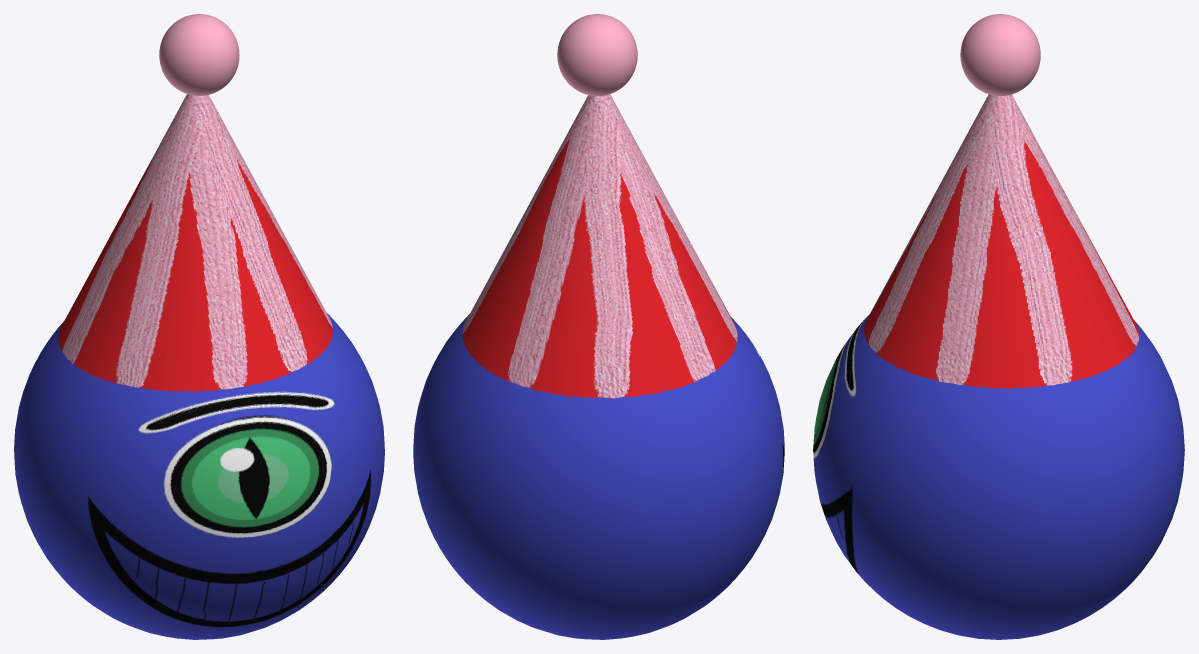
The model's file is cyclops.glb.
3 views of the same model, side by side, from view 1: azimuth 30°, elevation 25°; view 2: azimuth 150°, elevation 25°; view 3: azimuth 270°, elevation 25° (orthographic).
Visible parts, largest first — view 1: mesh_id27, mesh_id29, mesh_id32; view 2: mesh_id27, mesh_id29, mesh_id32; view 3: mesh_id27, mesh_id29, mesh_id32.
Boxes of the visible parts, bbox=[...] form: mesh_id27: bbox=[14, 313, 384, 639]; mesh_id29: bbox=[58, 94, 332, 391]; mesh_id32: bbox=[159, 14, 239, 95]; mesh_id27: bbox=[413, 314, 784, 639]; mesh_id29: bbox=[462, 94, 737, 398]; mesh_id32: bbox=[557, 14, 637, 96]; mesh_id27: bbox=[813, 314, 1184, 639]; mesh_id29: bbox=[864, 94, 1138, 388]; mesh_id32: bbox=[960, 14, 1040, 96].
Bounding box in the file's own units: 0.2672 × 0.4803 × 0.2672.
3 materials, 3 textured.
